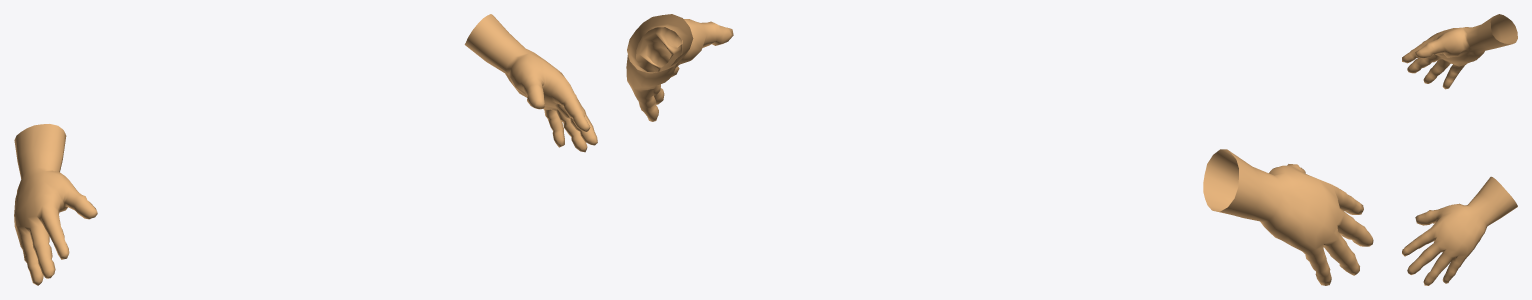
File: Lilly_Hands.fbx
3 renders of one model, left to right at view 1: azimuth 30°, elevation 25°; view 2: azimuth 150°, elevation 25°; view 3: azimuth 270°, elevation 25°, orthographic. The views are drawn at different scales.
Parts seen in each view (by area): view 1: Hand_High; view 2: Hand_High; view 3: Hand_High.
Boxes of the visible parts, x1=… form: Hand_High: x1=14, y1=14, x2=597, y2=285; Hand_High: x1=626, y1=14, x2=1373, y2=285; Hand_High: x1=1402, y1=14, x2=1517, y2=285.
Size of the model in its own units: 0.8558 by 0.1727 by 0.204.
